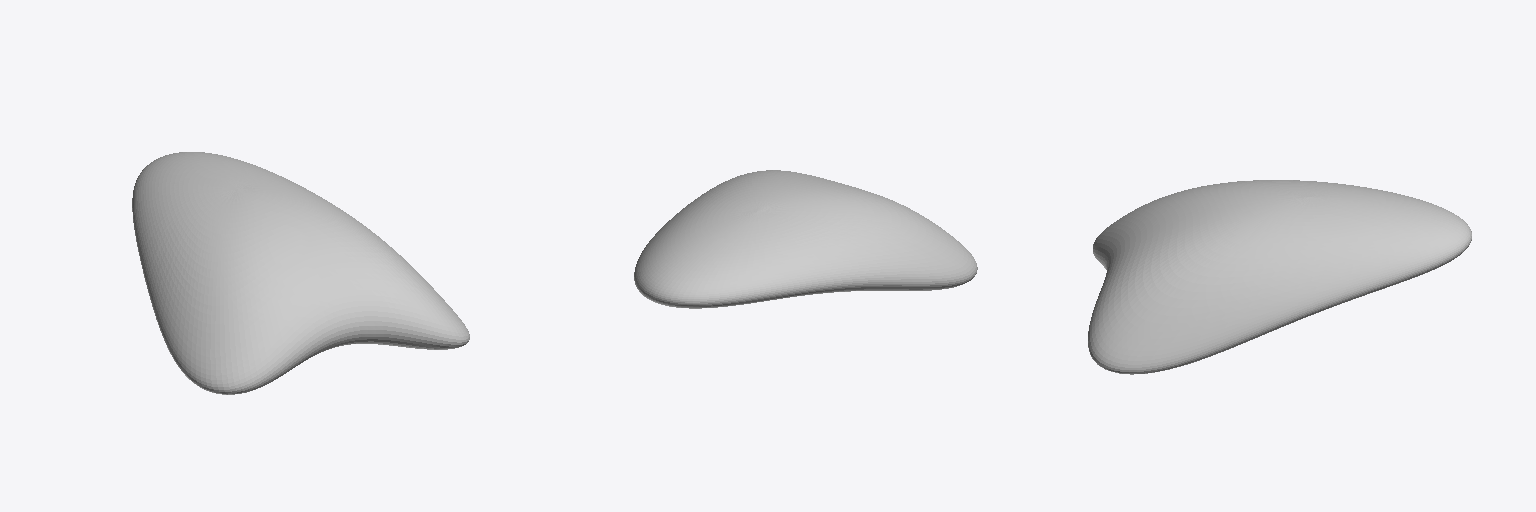
File: starship.obj
The picture shows the model from 3 angles: view 1: azimuth 30°, elevation 25°; view 2: azimuth 150°, elevation 25°; view 3: azimuth 270°, elevation 25°; orthographic projection.
Visible parts, largest first — view 1: Sphere; view 2: Sphere; view 3: Sphere.
Part boxes in pixels (bbox=[...]): Sphere: bbox=[132, 152, 469, 394]; Sphere: bbox=[634, 170, 977, 308]; Sphere: bbox=[1088, 180, 1471, 374].
Size of the model in its own units: 1.49 by 0.6017 by 1.84.